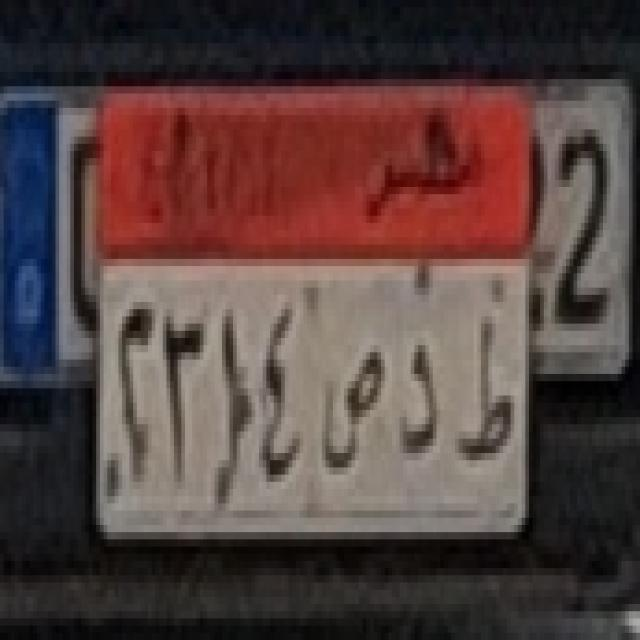2: (110, 285, 162, 490)
3: (160, 289, 216, 498)
4: (253, 298, 310, 488)
Saad: (316, 334, 388, 476)
Taa: (453, 298, 521, 479)
daal: (398, 327, 446, 463)
